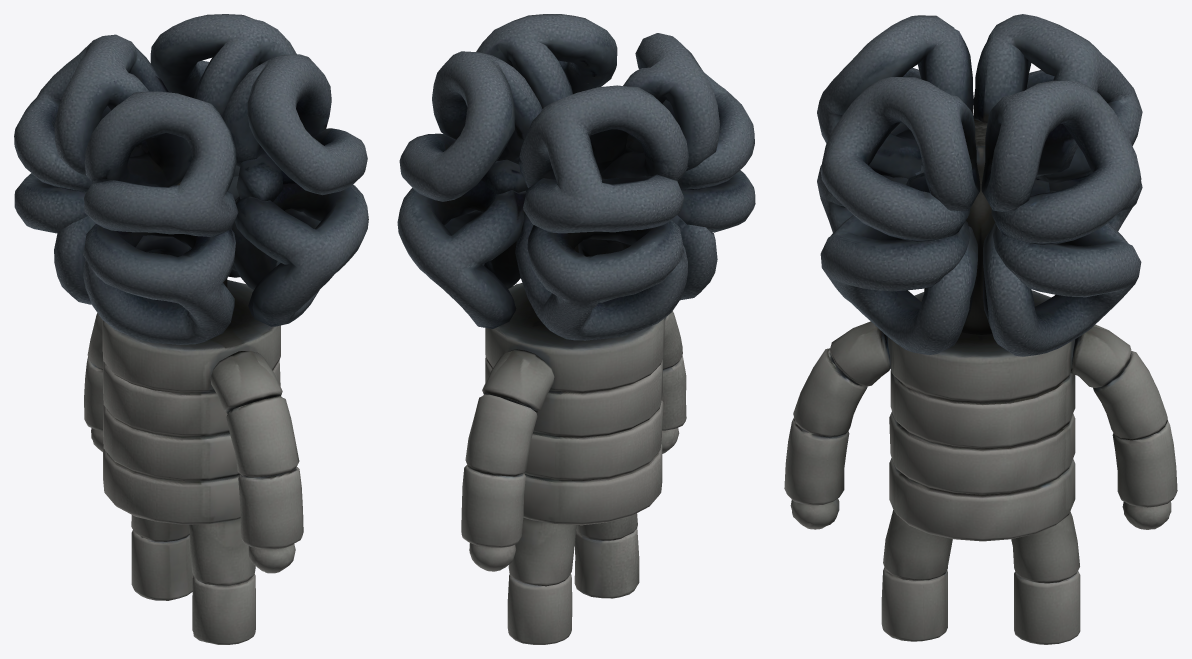
The model's file is pal_02.glb.
3 views of the same model, side by side, from view 1: azimuth 30°, elevation 25°; view 2: azimuth 150°, elevation 25°; view 3: azimuth 270°, elevation 25° (orthographic). The views are drawn at different scales.
Parts seen in each view (by area): view 1: tripo_node_d9a6a641-ec2f-431e-9060-2a429c7f4498; view 2: tripo_node_d9a6a641-ec2f-431e-9060-2a429c7f4498; view 3: tripo_node_d9a6a641-ec2f-431e-9060-2a429c7f4498.
Boxes of the visible parts, bbox=[...] form: tripo_node_d9a6a641-ec2f-431e-9060-2a429c7f4498: bbox=[14, 14, 368, 644]; tripo_node_d9a6a641-ec2f-431e-9060-2a429c7f4498: bbox=[397, 14, 755, 644]; tripo_node_d9a6a641-ec2f-431e-9060-2a429c7f4498: bbox=[784, 14, 1177, 644].
Bounding box in the file's own units: 0.5059 × 0.998 × 0.6152.
1 material, 1 textured.
